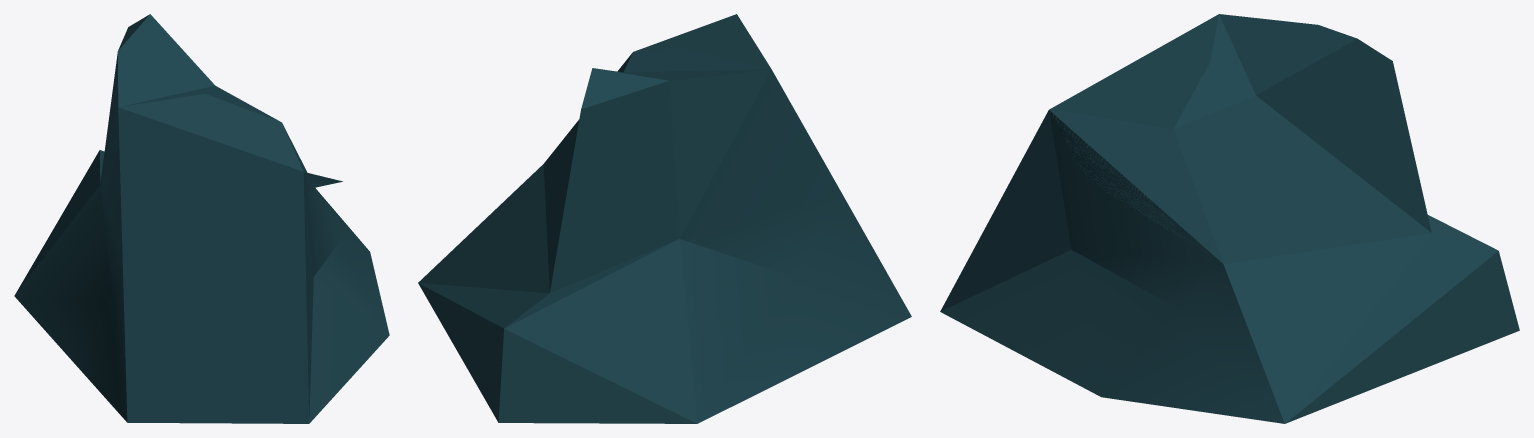
File: Piedra_Chica_1_FBX.fbx
The picture shows the model from 3 angles, left to right: view 1: azimuth 30°, elevation 25°; view 2: azimuth 150°, elevation 25°; view 3: azimuth 270°, elevation 25°; orthographic projection. The views are drawn at different scales.
Visible parts, largest first — view 1: Piedra_Chica_1; view 2: Piedra_Chica_1; view 3: Piedra_Chica_1.
Boxes of the visible parts, left/top/right/bottom form: Piedra_Chica_1: left=14, top=14, right=389, bottom=423; Piedra_Chica_1: left=418, top=14, right=911, bottom=423; Piedra_Chica_1: left=940, top=14, right=1519, bottom=423.
Bounding box in the file's own units: 4.02 × 3.14 × 5.42.
